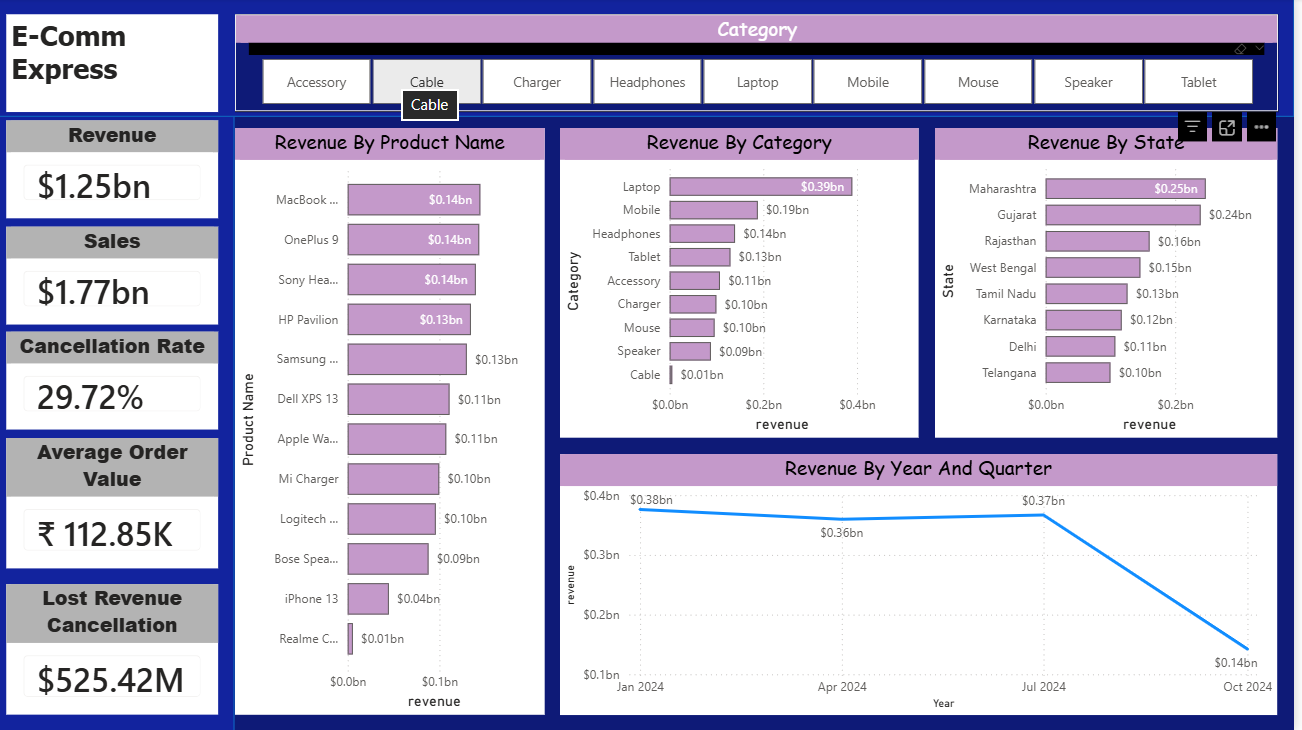

Layout of this report page (visuals, bound fields, positions):
{"tool":"powerbi","page":{"name":"Page 1","canvas":[1280,720],"ordinal":0},"visuals":[{"type":"shape","box":[0,112,240,608],"z":0},{"type":"shape","box":[0,0,1280.3,116.6],"z":1000},{"type":"barChart","title":"Revenue By Product Name","fields":{"Y":["Table.revenue"],"Category":["Products.Product Name"]},"box":[240,128,304,576],"z":2000},{"type":"barChart","title":"Revenue By Category","fields":{"Y":["Table.revenue"],"Category":["Products.Category"]},"box":[560,128,352,304],"z":3000},{"type":"lineChart","title":"Revenue By Year And Quarter","fields":{"Category":["Orders.Date and time of purchase.Variation.Date Hierarchy.Year","Orders.Date and time of purchase.Variation.Date Hierarchy.Quarter","Orders.Date and time of purchase.Variation.Date Hierarchy.Month","Orders.Date and time of purchase.Variation.Date Hierarchy.Day"],"Y":["Table.revenue"]},"box":[560,448,704,256],"z":4000},{"type":"barChart","title":"Revenue By State","fields":{"Y":["Table.revenue"],"Category":["Customers.State"]},"box":[928,128,336,304],"z":5000},{"type":"slicer","title":"Category","fields":{"Values":["Products.Category"]},"box":[240,16,1024,96],"z":6000},{"type":"cardVisual","title":"Revenue","fields":{"Data":["Table.revenue"]},"box":[16,120,208,96],"z":7000},{"type":"cardVisual","title":"Sales","fields":{"Data":["Table.Sales"]},"box":[16,224,208,96],"z":8000},{"type":"cardVisual","title":"Average Order Value","fields":{"Data":["Table.Average_order_value"]},"box":[16,432,208,128],"z":9000},{"type":"cardVisual","title":"Lost Revenue Cancellation","fields":{"Data":["Table.lost_rev_cancellation"]},"box":[16,576,208,128],"z":10000},{"type":"cardVisual","title":"Cancellation Rate","fields":{"Data":["Table.cancellation_rate"]},"box":[16,328,208,96],"z":11000},{"type":"textbox","box":[16,16,208,96],"z":12000}]}

Visuals, with their boxes in screenshot pixels (x1, y1, x2, y2), scaled from the page's 1280x720 canvas onto the 1302x730 screenshot:
shape: rect(0, 114, 244, 729)
shape: rect(0, 0, 1301, 118)
"Revenue By Product Name" barChart: rect(244, 130, 553, 714)
"Revenue By Category" barChart: rect(570, 130, 928, 438)
"Revenue By Year And Quarter" lineChart: rect(570, 454, 1286, 714)
"Revenue By State" barChart: rect(944, 130, 1286, 438)
"Category" slicer: rect(244, 16, 1286, 114)
"Revenue" cardVisual: rect(16, 122, 228, 219)
"Sales" cardVisual: rect(16, 227, 228, 324)
"Average Order Value" cardVisual: rect(16, 438, 228, 568)
"Lost Revenue Cancellation" cardVisual: rect(16, 584, 228, 714)
"Cancellation Rate" cardVisual: rect(16, 333, 228, 430)
textbox: rect(16, 16, 228, 114)
